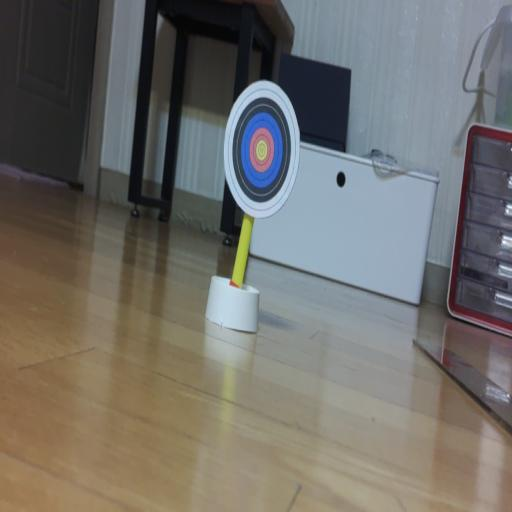target: (224, 82, 300, 218)
